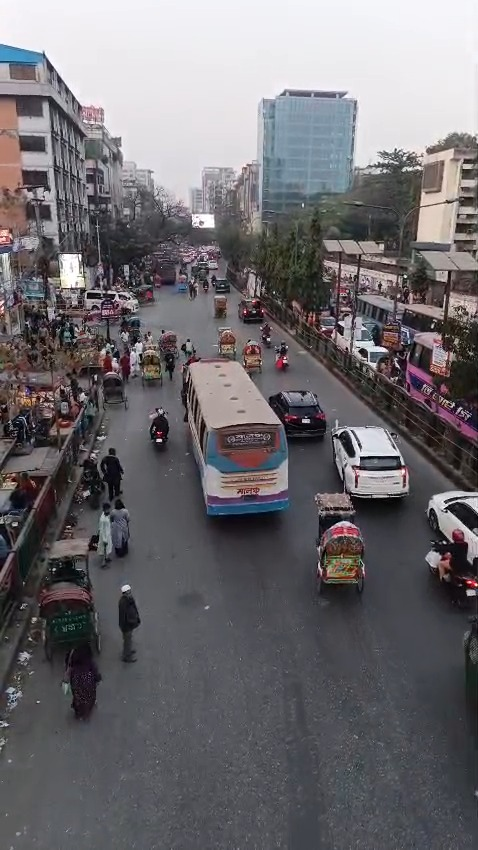Bikes: (148, 407, 174, 457)
Bus: (184, 357, 291, 523)
auto-ricksaw: (311, 490, 372, 602)
private car: (330, 421, 415, 506), (268, 384, 330, 440)
